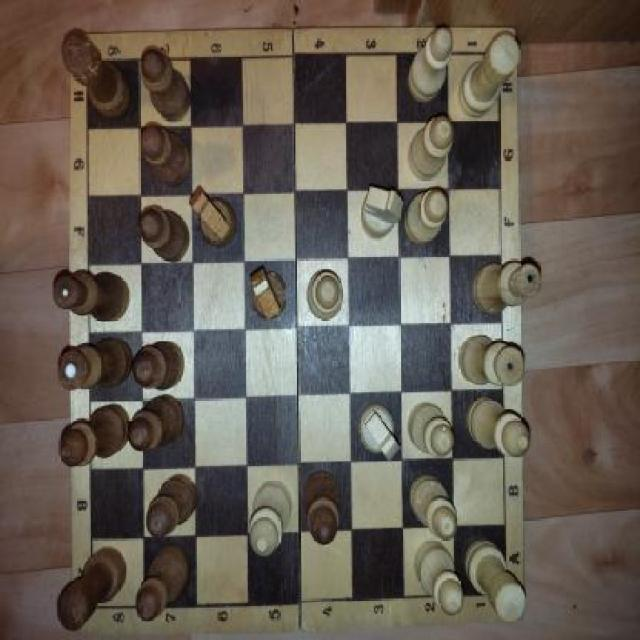chess-table-corners: (480, 558, 526, 624), (68, 30, 114, 96), (472, 28, 518, 87), (73, 576, 119, 632)
